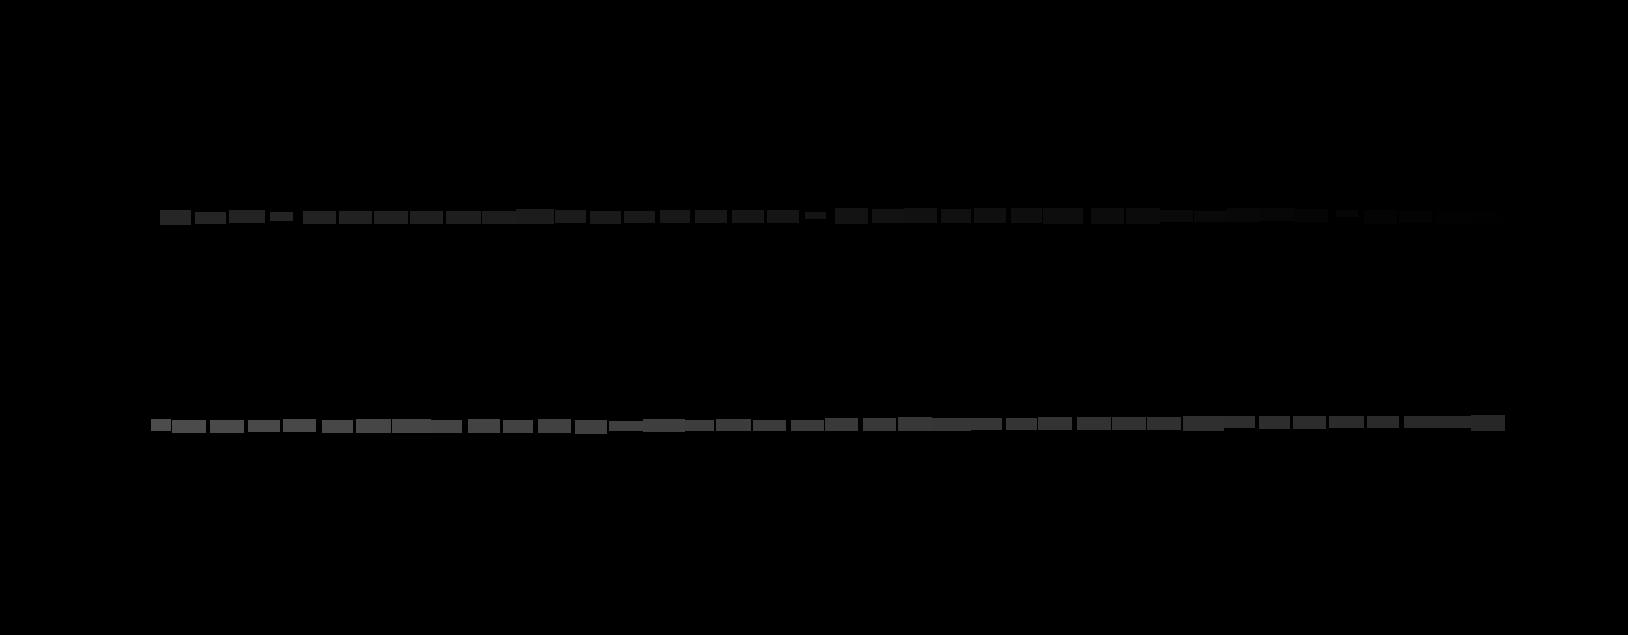light: (1043, 208, 1083, 224), (1183, 416, 1224, 431), (516, 209, 554, 224), (1127, 208, 1160, 224), (1091, 208, 1124, 224), (835, 208, 868, 224), (1471, 415, 1505, 431), (643, 419, 685, 432), (392, 419, 431, 433), (974, 208, 1006, 223), (904, 208, 937, 223), (1011, 208, 1042, 223), (160, 210, 191, 225), (1364, 210, 1398, 224), (1227, 208, 1260, 222), (932, 418, 971, 431), (482, 211, 517, 224), (229, 210, 265, 223), (356, 419, 391, 433), (872, 209, 904, 223), (1294, 209, 1328, 222), (446, 211, 481, 224), (374, 211, 408, 224), (898, 417, 932, 431), (1260, 208, 1294, 221), (410, 211, 443, 224), (303, 211, 336, 224), (538, 419, 571, 433), (941, 209, 971, 223), (767, 210, 799, 223), (732, 210, 764, 223), (695, 210, 727, 223), (340, 211, 372, 224), (575, 420, 607, 434), (468, 419, 500, 433), (1437, 211, 1471, 223), (1112, 417, 1146, 430), (1077, 417, 1111, 430), (210, 420, 244, 433), (590, 211, 621, 224), (1469, 211, 1502, 223), (1399, 211, 1432, 223), (1160, 210, 1193, 222), (1293, 416, 1326, 429), (1147, 417, 1181, 430), (1038, 417, 1071, 430), (863, 418, 896, 431), (429, 420, 462, 433), (172, 420, 206, 433), (660, 210, 690, 223), (555, 210, 586, 223), (1438, 416, 1473, 427), (1329, 416, 1364, 427), (825, 418, 858, 431), (283, 419, 316, 432), (1404, 416, 1438, 427), (716, 419, 751, 431), (624, 211, 655, 223), (195, 212, 226, 224), (322, 420, 353, 433), (1194, 211, 1227, 222), (1259, 416, 1290, 429), (503, 420, 533, 433), (970, 418, 1002, 430), (248, 420, 280, 432), (1367, 416, 1399, 427), (1224, 416, 1255, 427), (1006, 418, 1037, 430), (791, 420, 824, 431), (753, 420, 786, 431), (681, 420, 714, 431), (609, 421, 644, 431), (151, 419, 171, 431), (270, 212, 293, 221), (1336, 210, 1358, 217), (805, 212, 826, 219)
